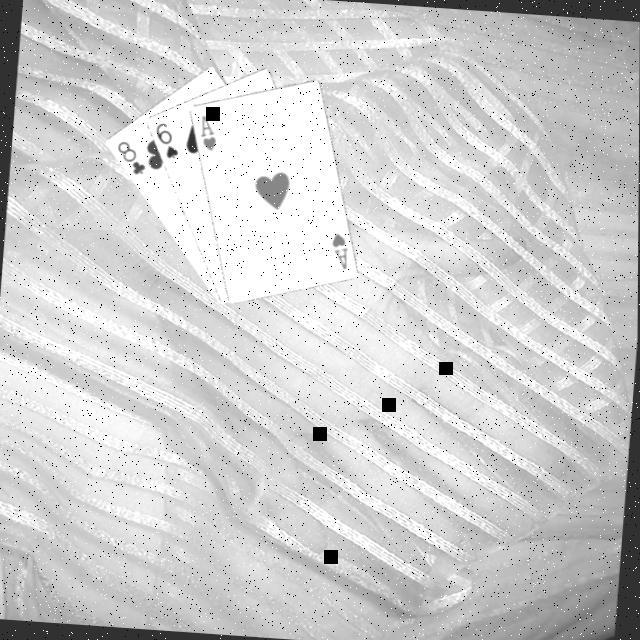6S: (151, 118, 184, 161)
8C: (112, 136, 151, 178)
AH: (327, 228, 352, 271), (196, 111, 221, 153)
